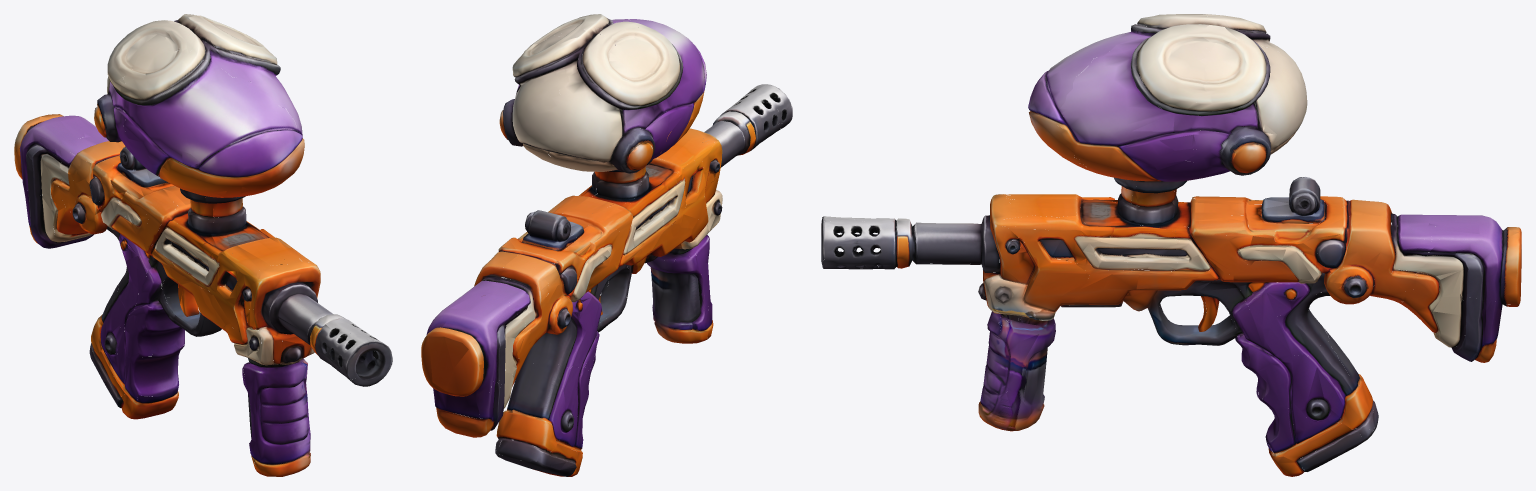
Rendered from shooter.glb.
The picture shows the model from 3 angles, left to right: view 1: azimuth 30°, elevation 25°; view 2: azimuth 150°, elevation 25°; view 3: azimuth 270°, elevation 25°; orthographic projection. The views are drawn at different scales.
Visible parts, largest first — view 1: ChogWeapon_shooter; view 2: ChogWeapon_shooter; view 3: ChogWeapon_shooter.
Part boxes in pixels (x1,y1,x2,y2): ChogWeapon_shooter: [14, 14, 392, 476]; ChogWeapon_shooter: [421, 14, 792, 476]; ChogWeapon_shooter: [821, 14, 1521, 476].
Size of the model in its own units: 0.1318 by 0.3519 by 0.5.
1 material, 1 textured.
